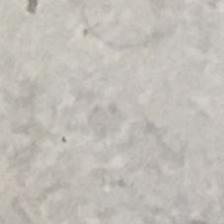Non_Crack: (32, 51, 191, 196)
